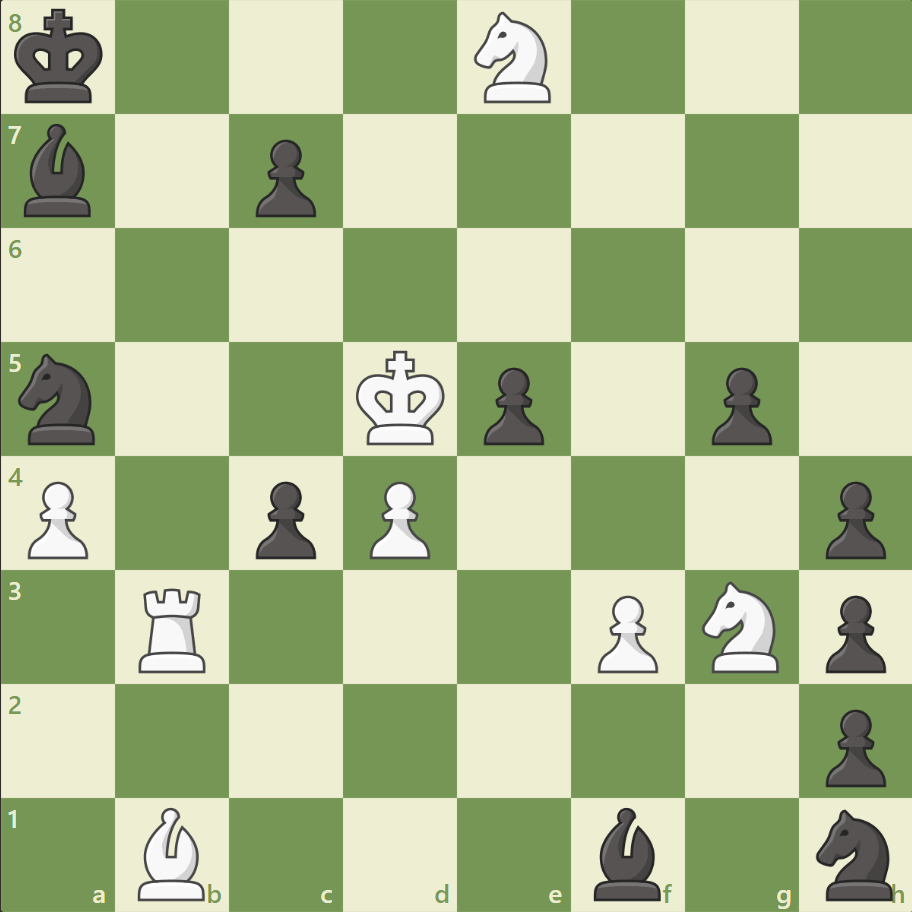B: (131, 801, 215, 904)
K: (351, 344, 451, 452)
N: (465, 7, 562, 110), (692, 575, 789, 677)
P: (20, 473, 95, 564), (361, 473, 435, 564), (588, 586, 662, 677)
R: (133, 579, 215, 676)
b: (585, 801, 669, 904), (17, 120, 101, 222)
k: (11, 4, 111, 112)
n: (11, 348, 108, 450), (806, 802, 903, 904)
p: (247, 132, 322, 223), (474, 359, 549, 450), (701, 359, 776, 450), (247, 473, 322, 564), (815, 473, 889, 564), (815, 586, 889, 677), (815, 700, 889, 791)
